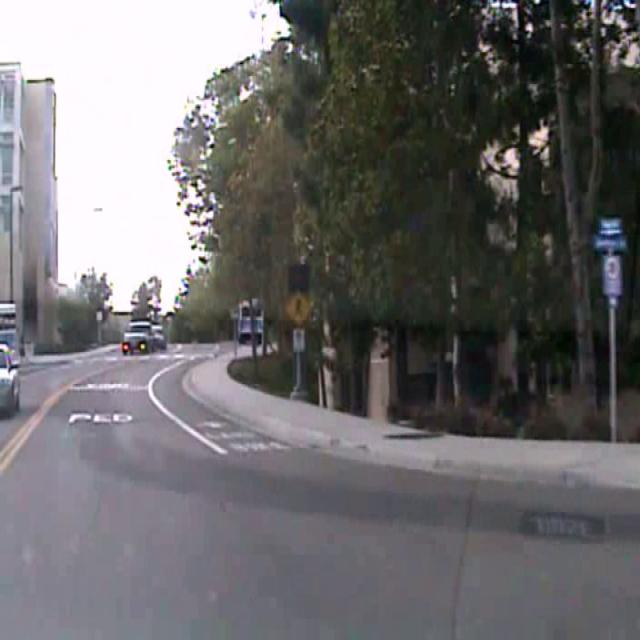pedestrianCrossing: (282, 289, 312, 327)
